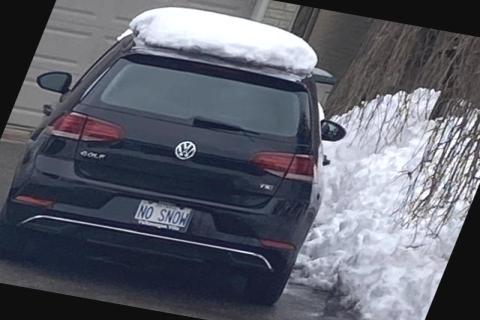LicensePlate: (125, 196, 194, 232)
